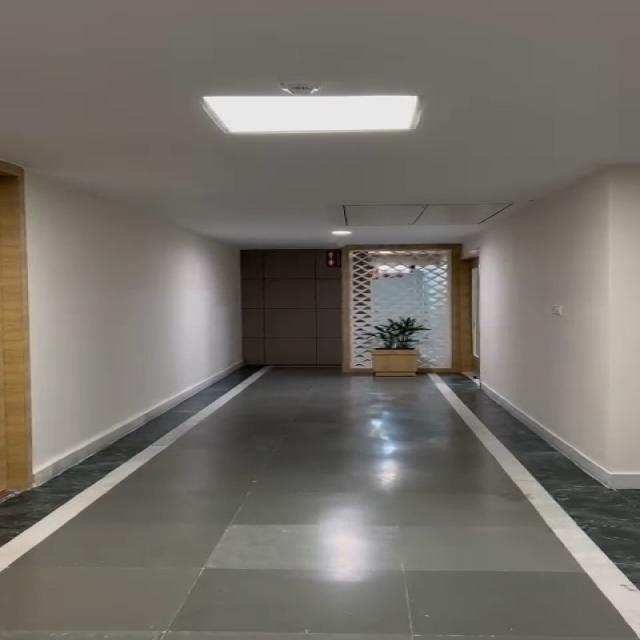floor: (0, 482, 640, 640), (219, 368, 486, 498)
furniture: (358, 310, 456, 394)
wall: (27, 165, 247, 390), (467, 188, 640, 452)
